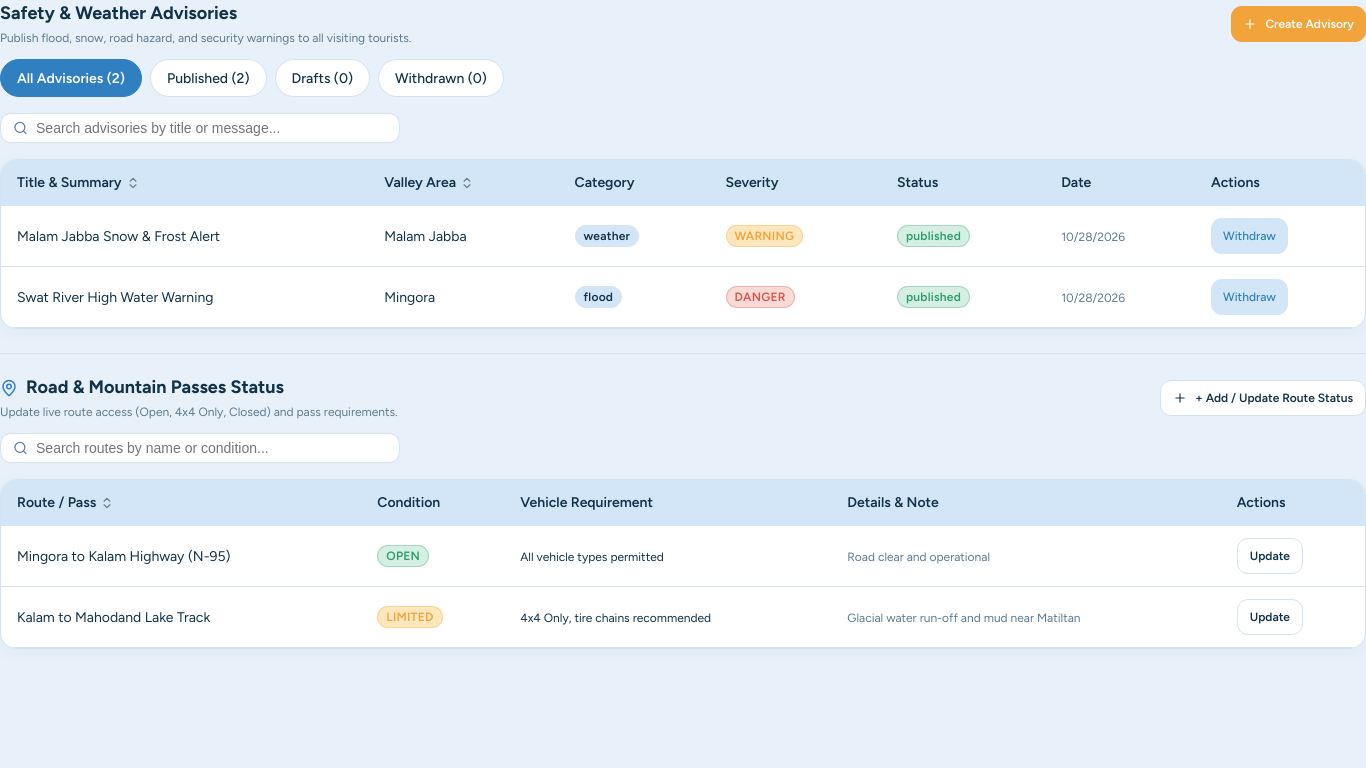
Step 6: Safety, Advisories, Road Status, and Emergency SOS › renders Authority Advisories tab with real data and allows creating new advisory
Expected: the heading "Safety & Weather Advisories" is shown, [0,2,237,24]
# Open Create Advisory modal
Click the button with test id "btn-create-advisory": (1299, 24) [1231,6,1365,42]
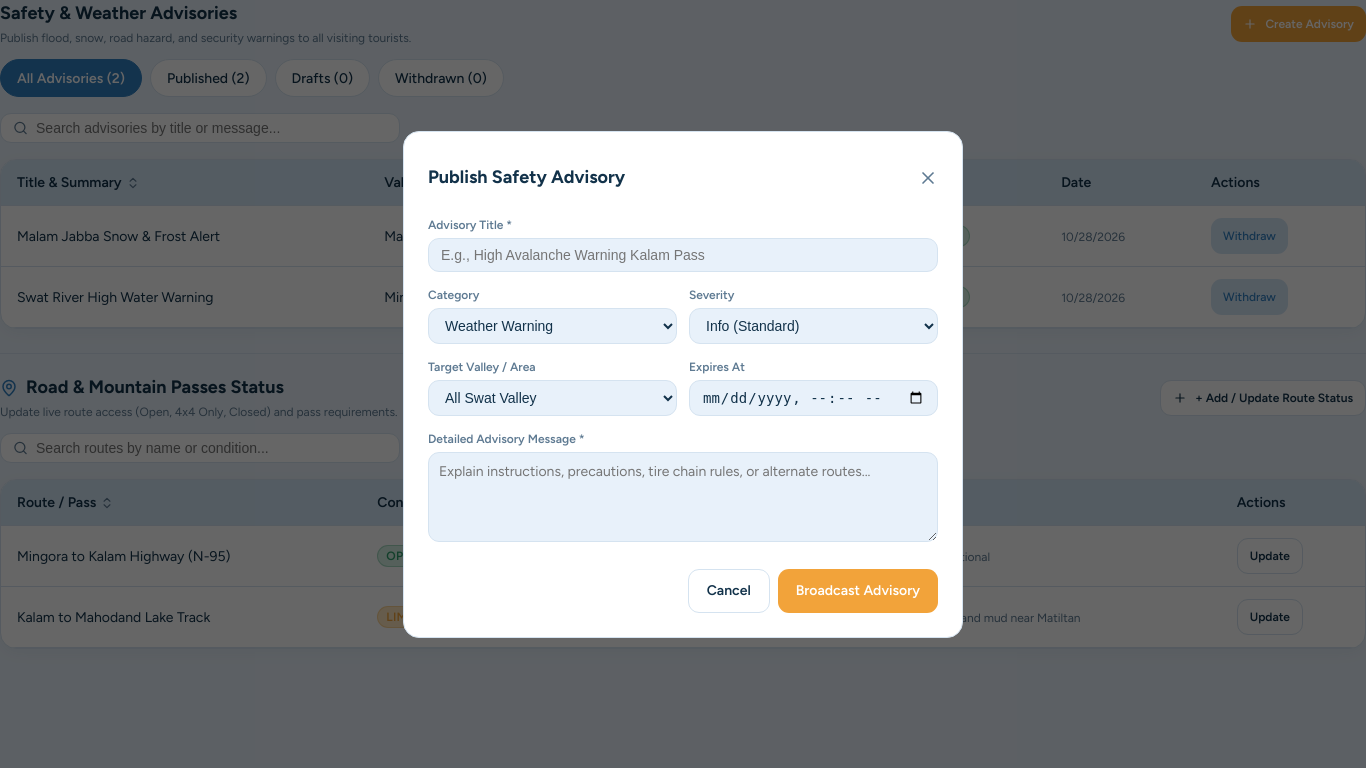
Result: the element with test id "modal-create-advisory" is shown
In the field with test id "input-advisory-title": (683, 254) [428,238,938,272], type "Ghabral River Flash Flood Alert"
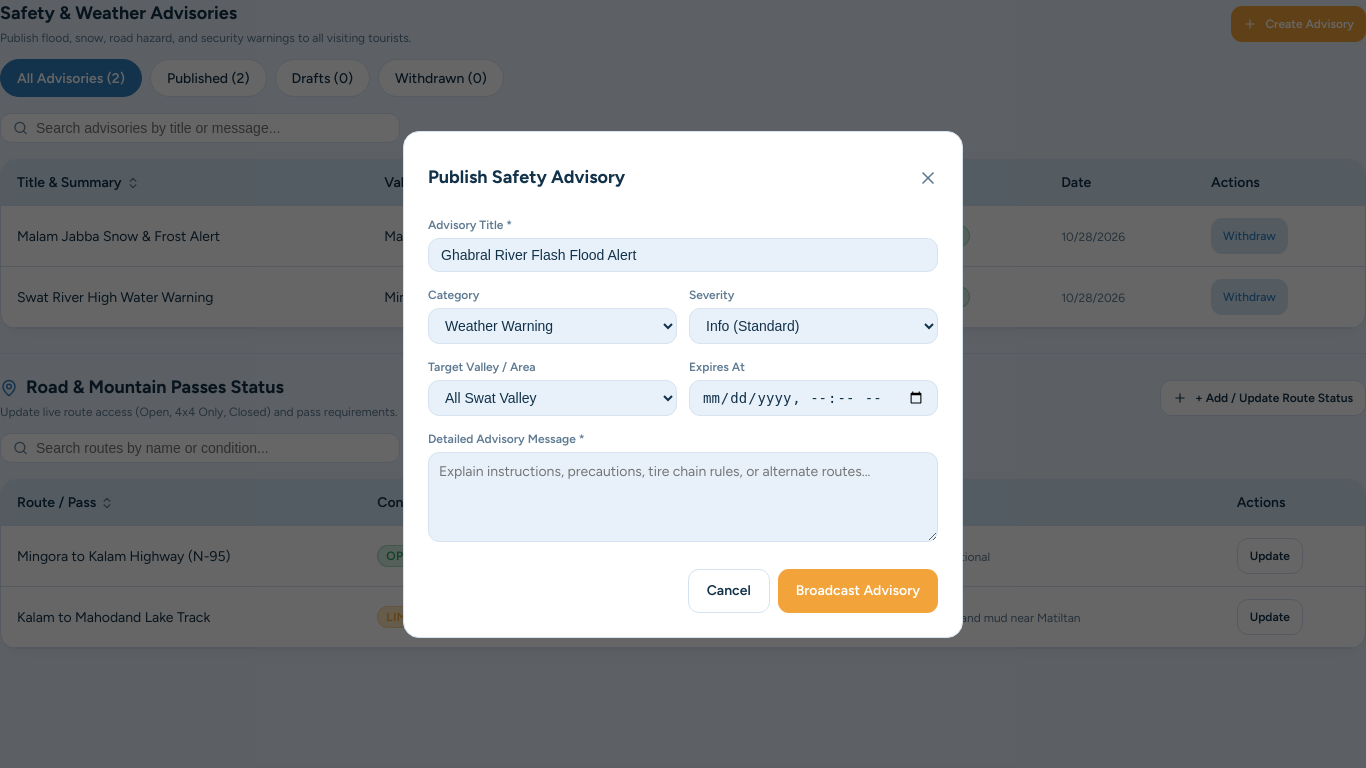
Replace the text in the text box with test id "input-advisory-message" with "Stay clear of river banks. Evacuation order in low lying areas.": (683, 496) [428,452,938,542]
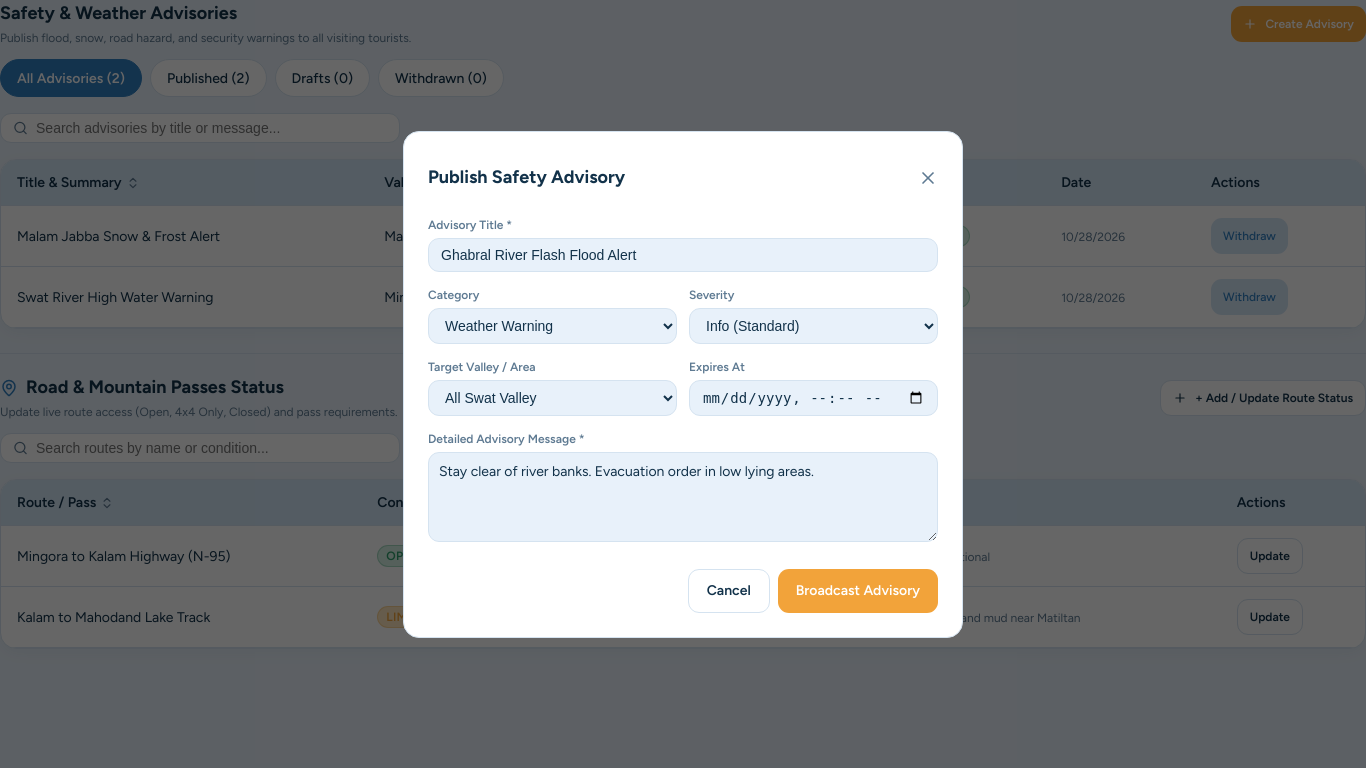
Select "Danger (High Alert / Red)" in the dropdown with test id "select-advisory-severity": (814, 326) [689,308,938,344]
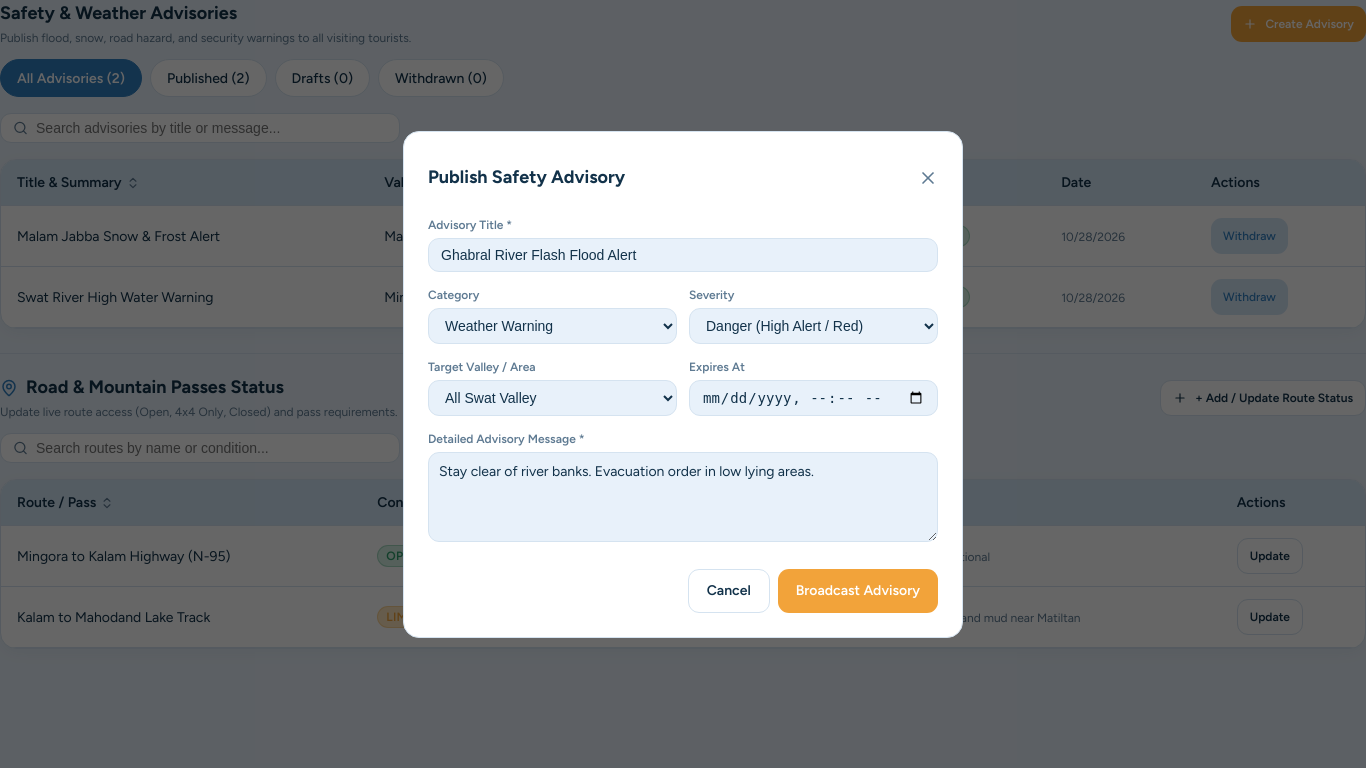
Click the button with test id "btn-submit-advisory": (858, 590) [778,568,938,612]
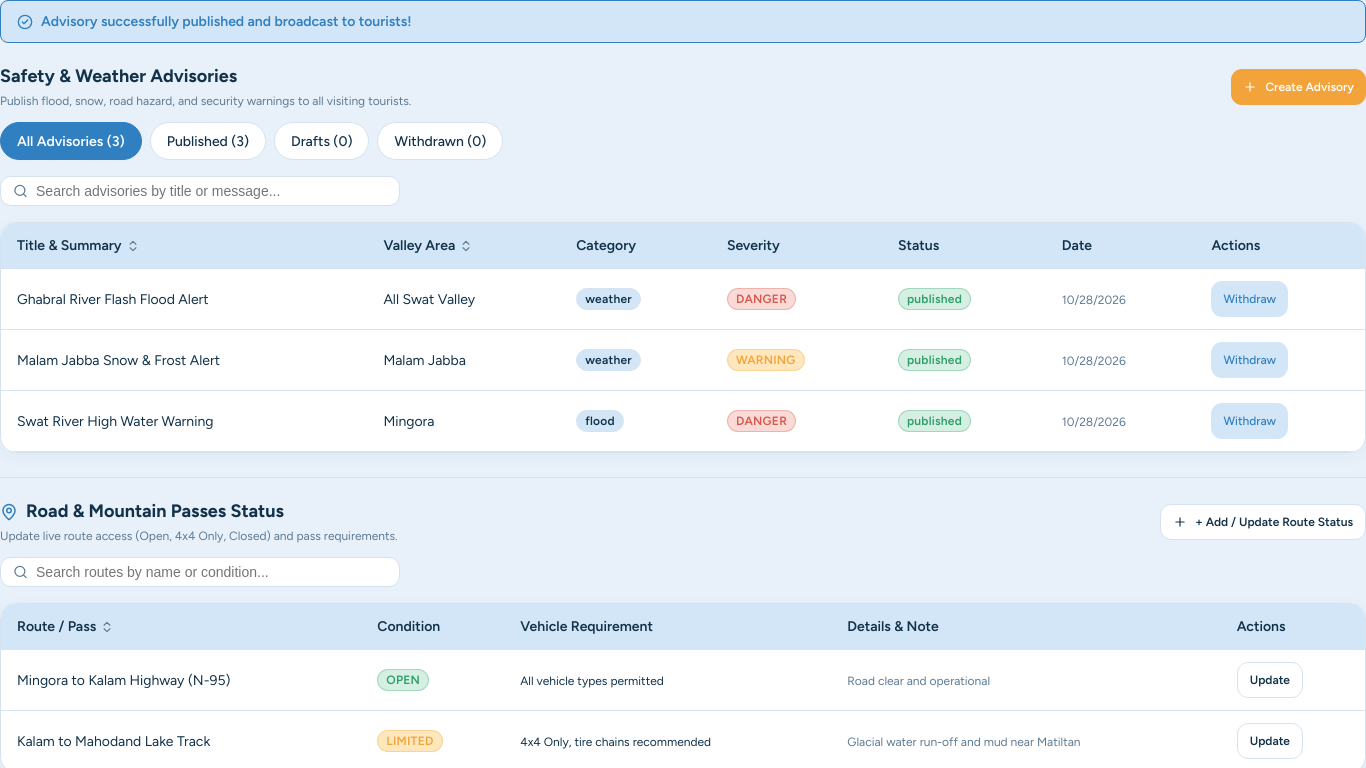
Result: the text "Ghabral River Flash Flood Alert" is shown at [1,268,367,330]
Result: the text "Advisory successfully published and broadcast to tourists!" is shown at [0,0,1365,43]
